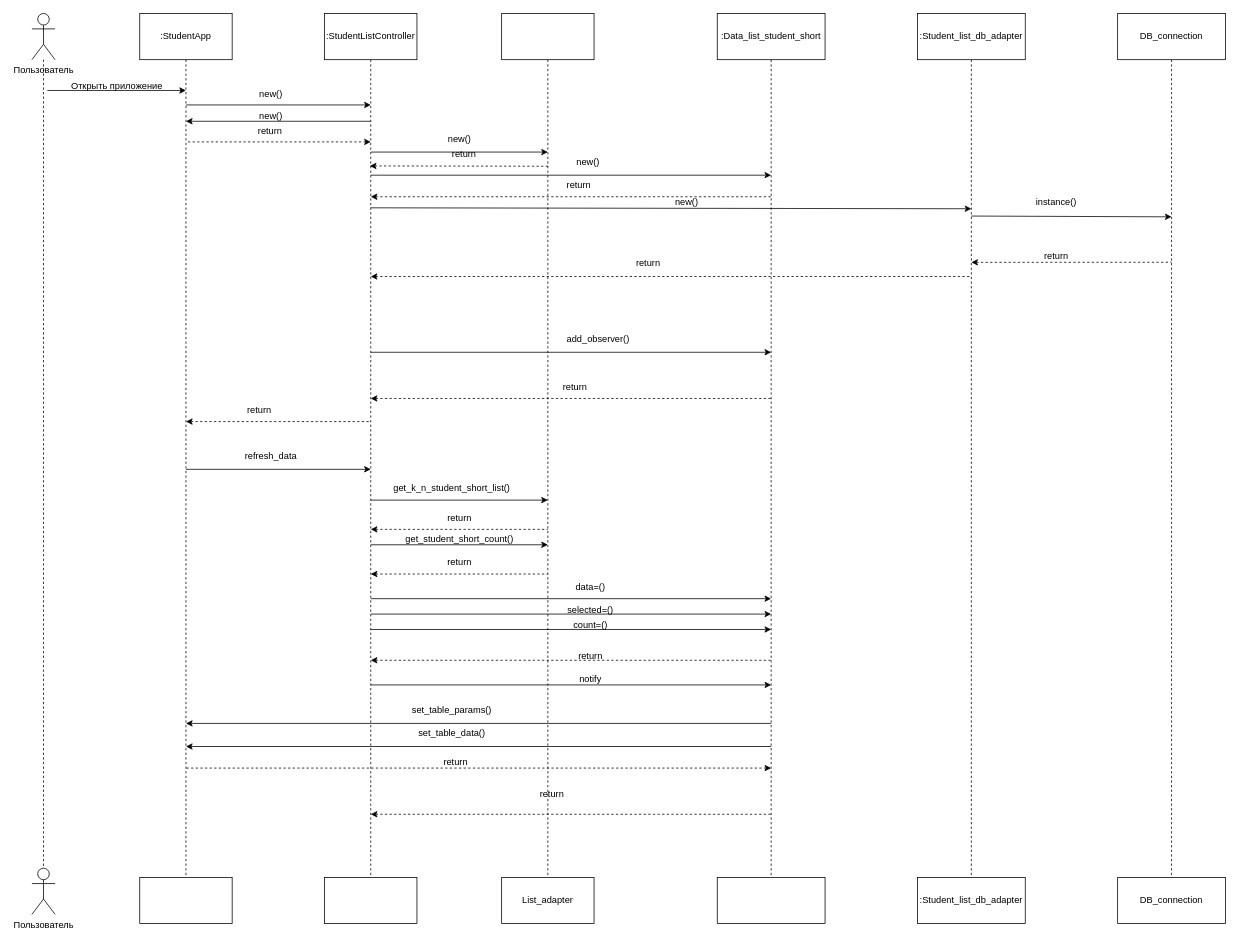
Some shapes in this 1239 by 944 pixel diagram are drawn without their labels. The shapes that lost their labels are listed below. From the top down, each one's centre as x and y in pixels, then its label:
(x=547, y=36): :List_adapter
(x=185, y=900): StudentApp
(x=370, y=900): StudentListController
(x=770, y=900): Data_list_student_short
